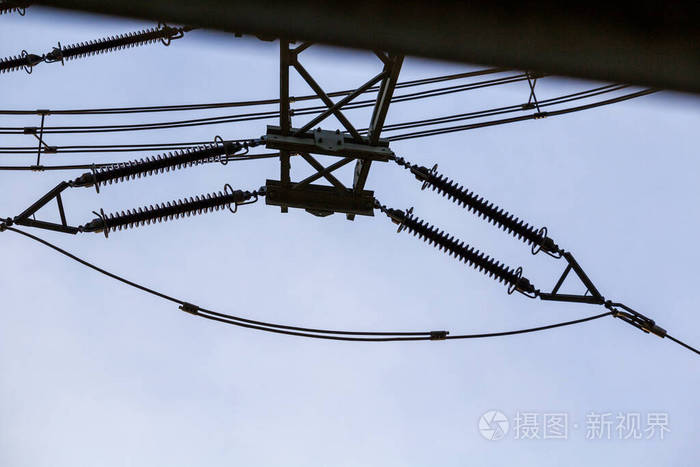insulator: (401, 214, 516, 287), (428, 168, 539, 242), (88, 140, 222, 192), (104, 187, 234, 231), (60, 27, 167, 61)
